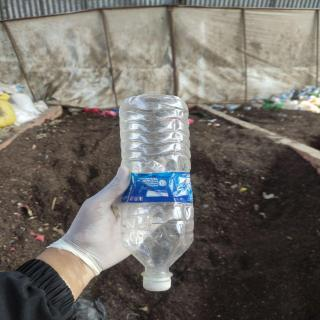Plastic-bottle: (113, 91, 202, 297)
